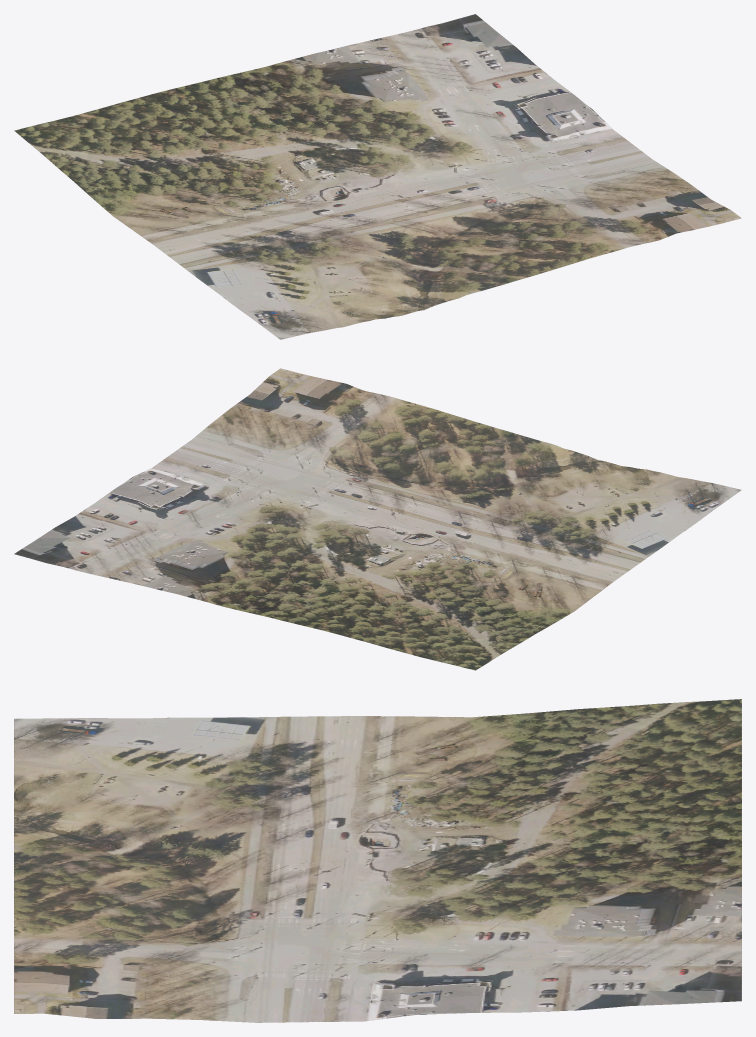
Rendered from CM_Terrain_24490663_6820408.fbx.
3 views of the same model, one above another, from view 1: azimuth 30°, elevation 25°; view 2: azimuth 150°, elevation 25°; view 3: azimuth 270°, elevation 25° (orthographic). The views are drawn at different scales.
Parts seen in each view (by area): view 1: CM_Terrain_24490663_6820408_LOD0; view 2: CM_Terrain_24490663_6820408_LOD0; view 3: CM_Terrain_24490663_6820408_LOD0.
Part boxes in pixels (x1,y1,x2,y2): CM_Terrain_24490663_6820408_LOD0: (14,14,741,339); CM_Terrain_24490663_6820408_LOD0: (14,368,741,670); CM_Terrain_24490663_6820408_LOD0: (14,699,741,1022).
Size of what is drawn, in the model's own units: 205 by 10.06 by 205.
